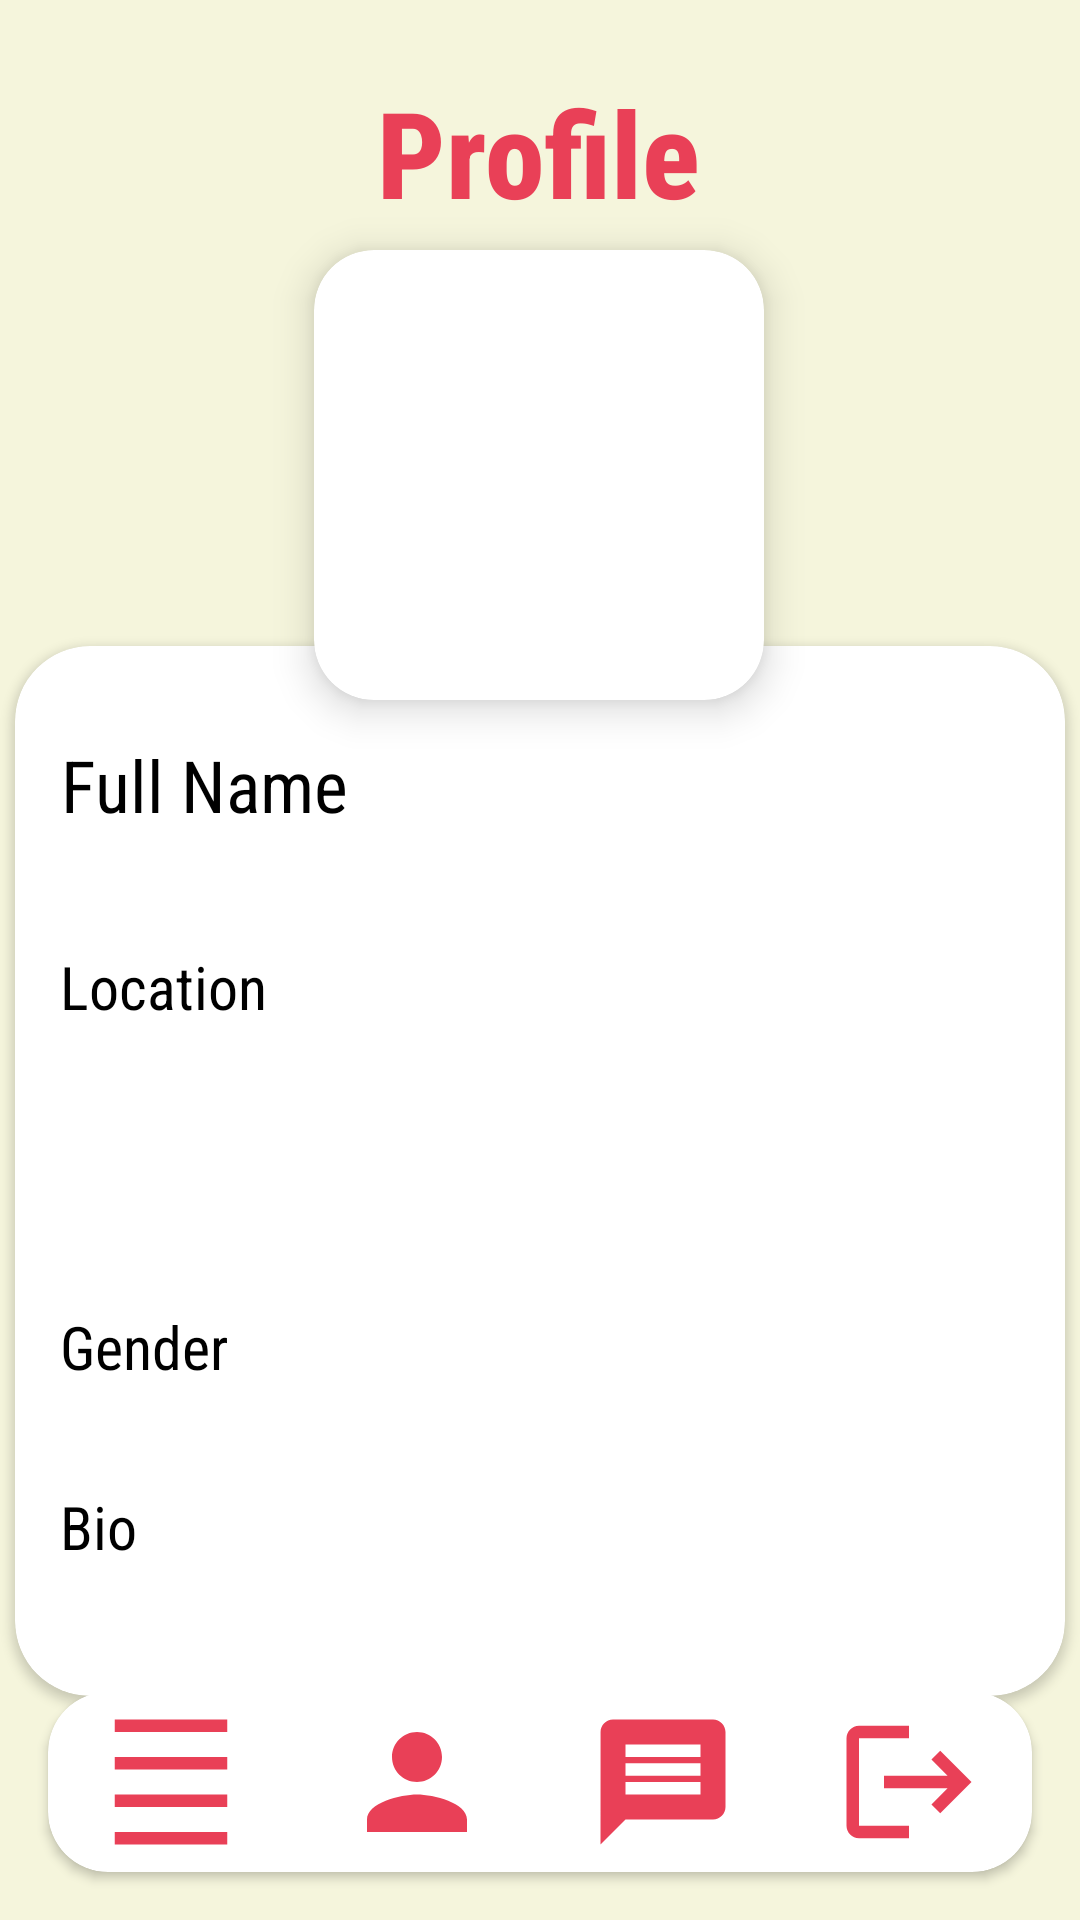

Named icons in this screenshot (1080px×1920px) and their bounding boxes, (x1, y1, x2, y2):
density: (114, 1719, 228, 1845)
message: (600, 1719, 726, 1844)
person: (367, 1732, 467, 1832)
